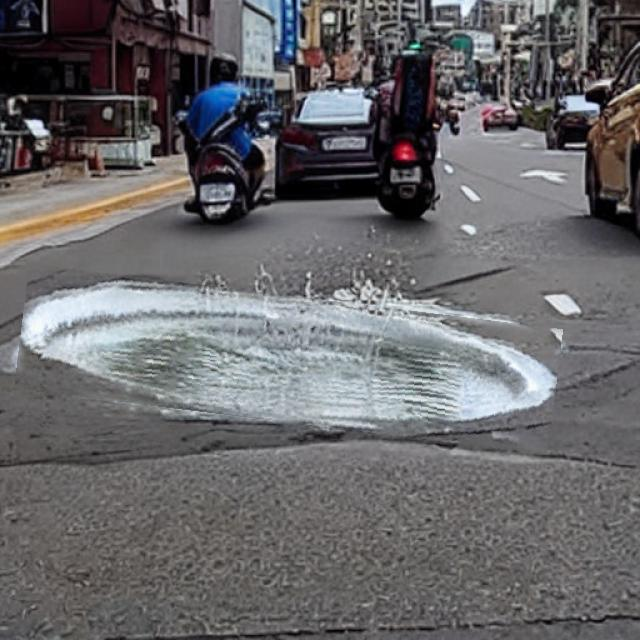puddle: (17, 281, 561, 439)
